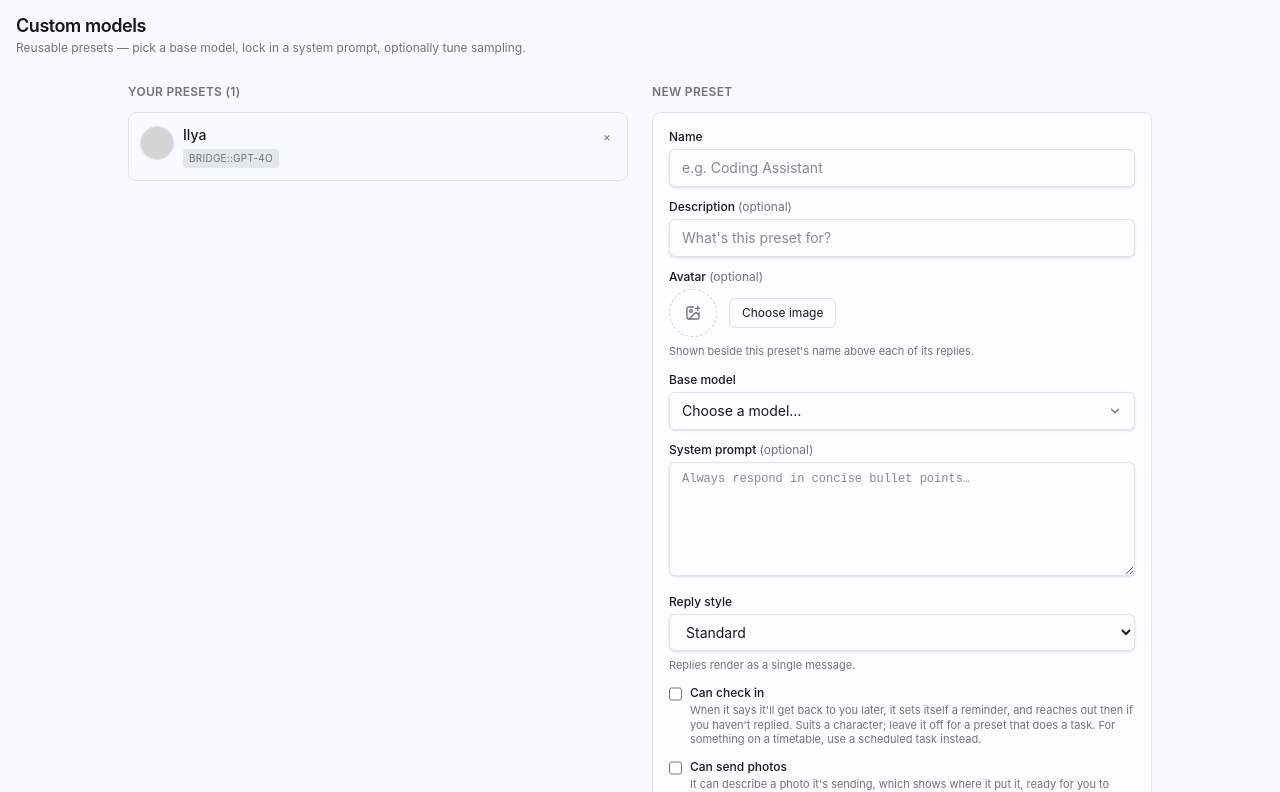
custom models — avatar › shows a saved avatar in the list and loads it into the form
Click the button "Ilya bridge::gpt-4o".
click(157, 143)  # box [141, 125, 591, 168]
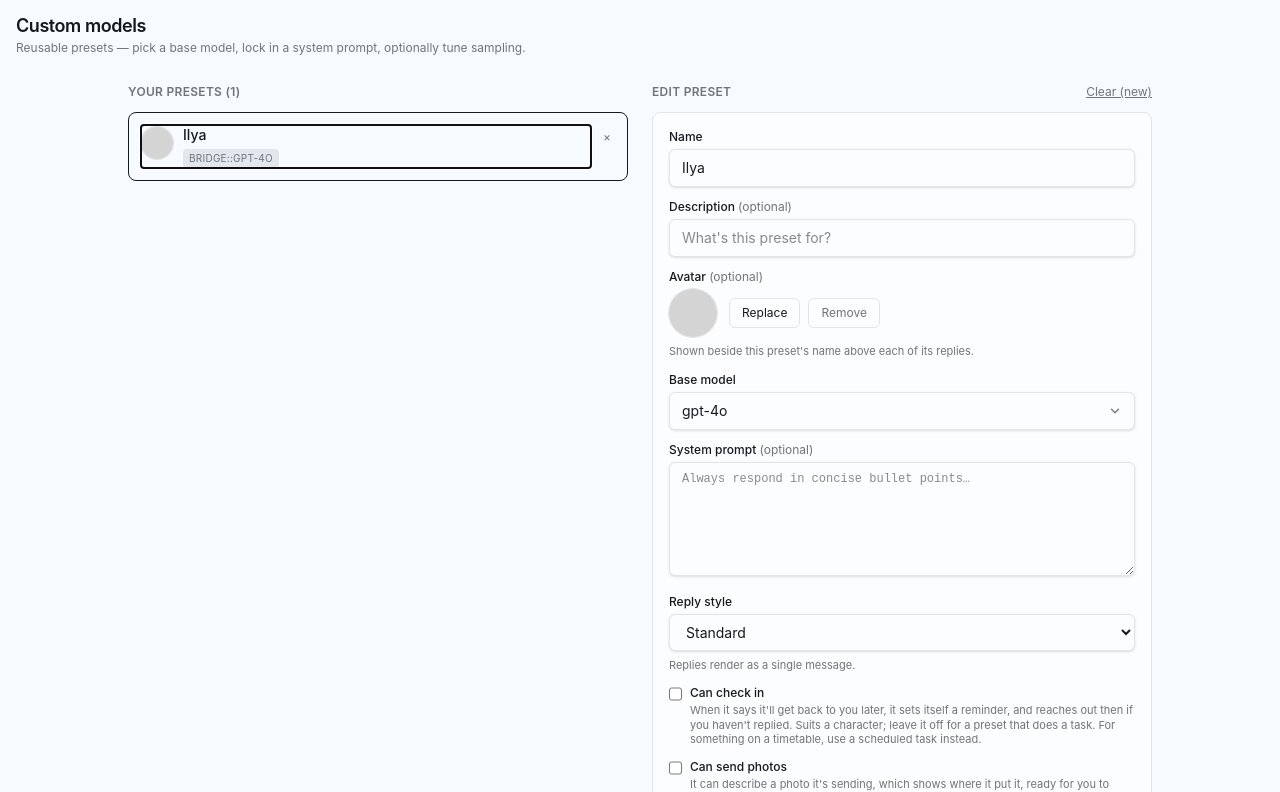
Now the button "Replace" is shown, box [729, 298, 800, 328]
